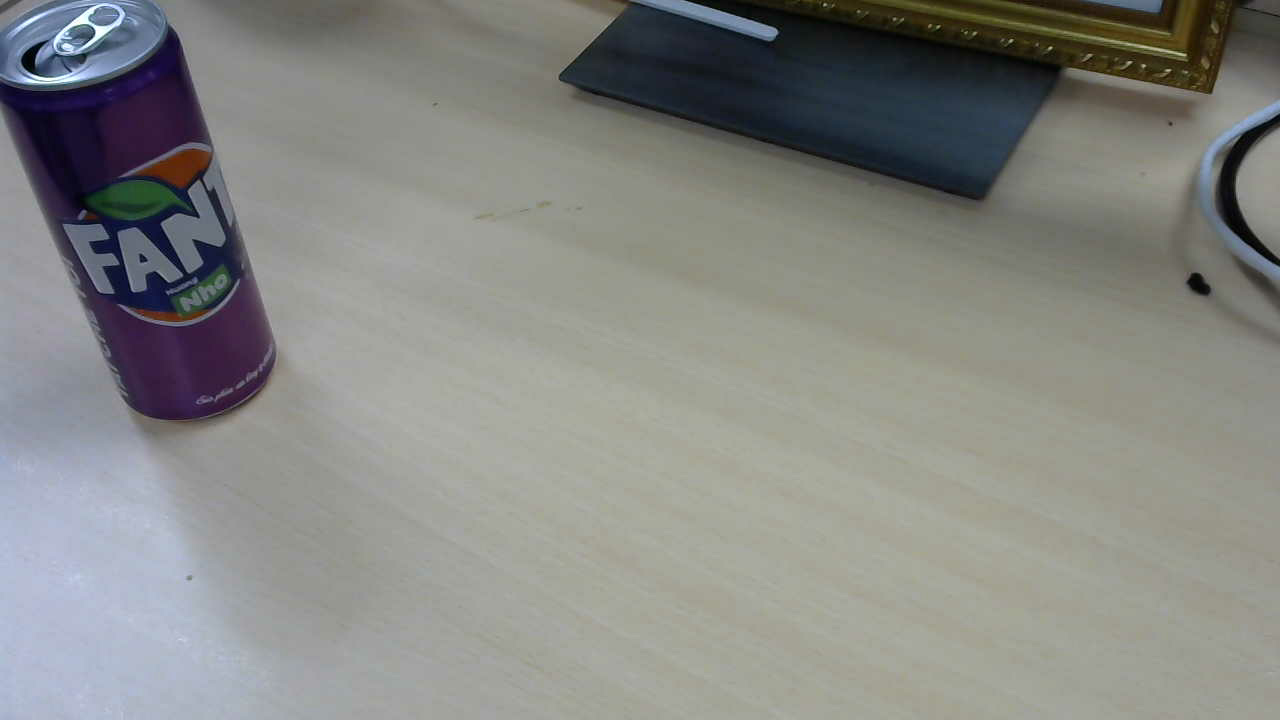Fanta: (3, 5, 284, 428)
